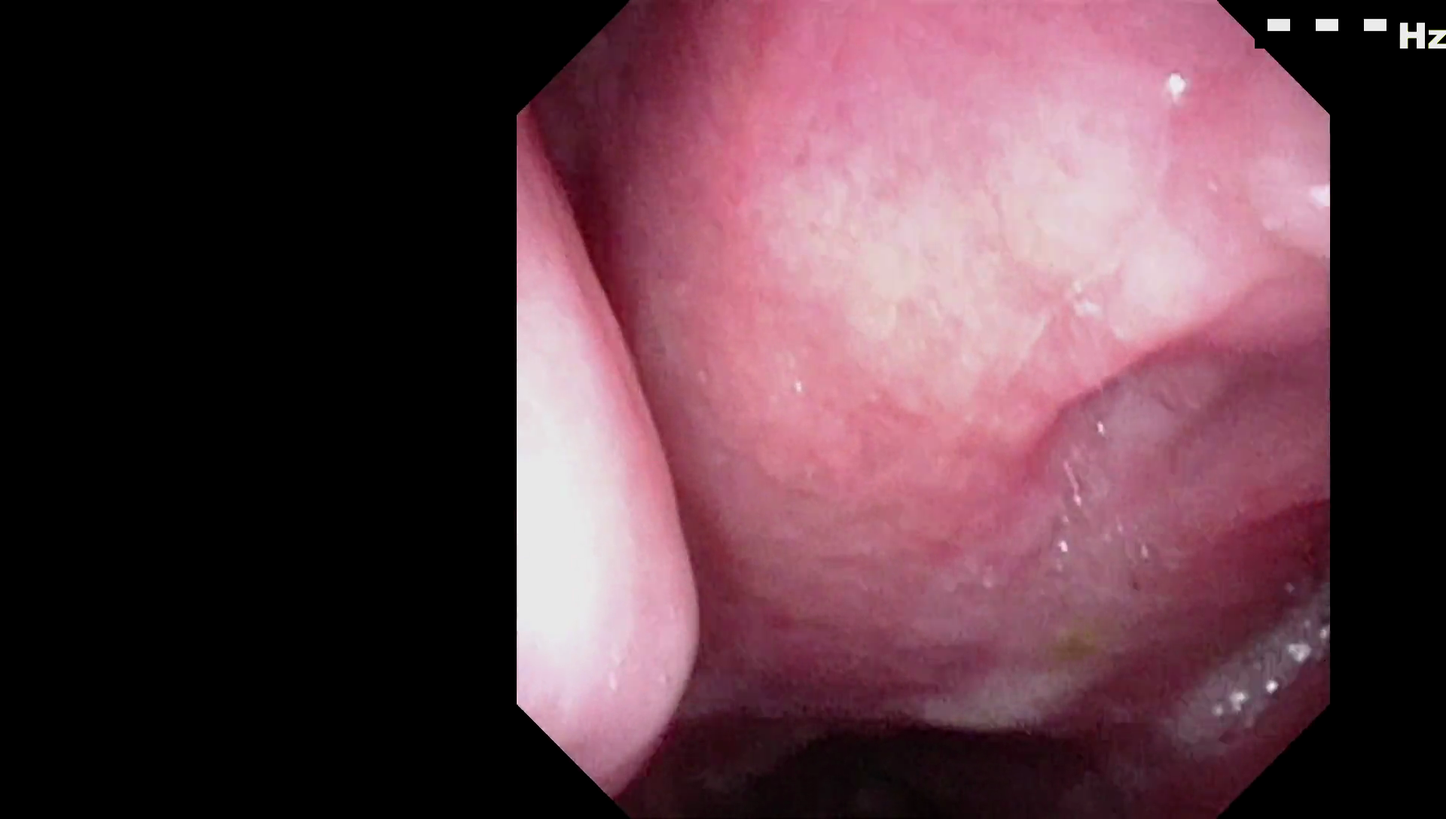close_wall: (760, 55, 1278, 439), (524, 188, 730, 767)
next: (638, 629, 1107, 819)
